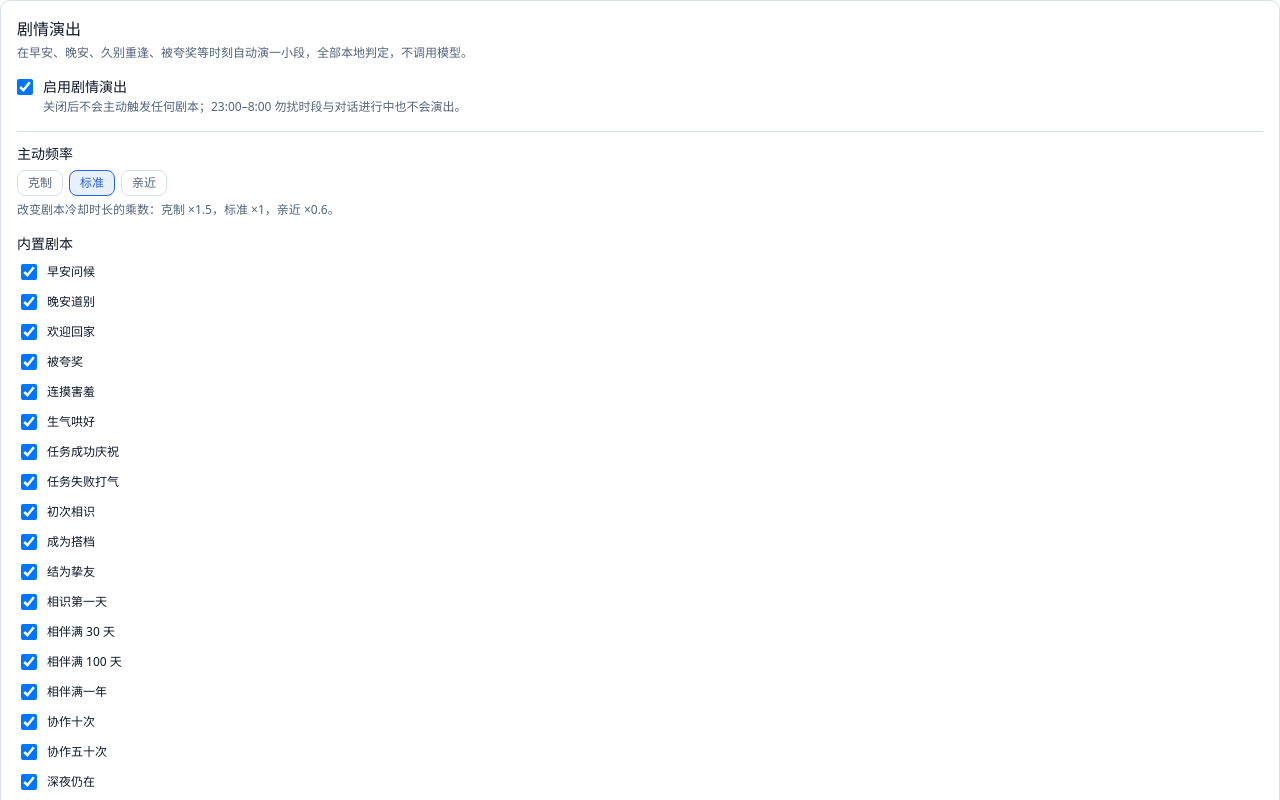
Test: EventPanel（v1.7 剧情演出设置） › 默认启用；关闭总开关后 PUT eventsEnabled=false 且剧本列表隐藏
This screenshot has width=1280, height=800.
expect the text "内置剧本" is shown: met, box [17, 234, 73, 253]
fireEvent 单击：避免 jsdom 下 userEvent 对 label 包裹 checkbox 的双重激活
Click the checkbox with test id "event-enabled-toggle". click: (25,87)
box: [17, 79, 33, 95]
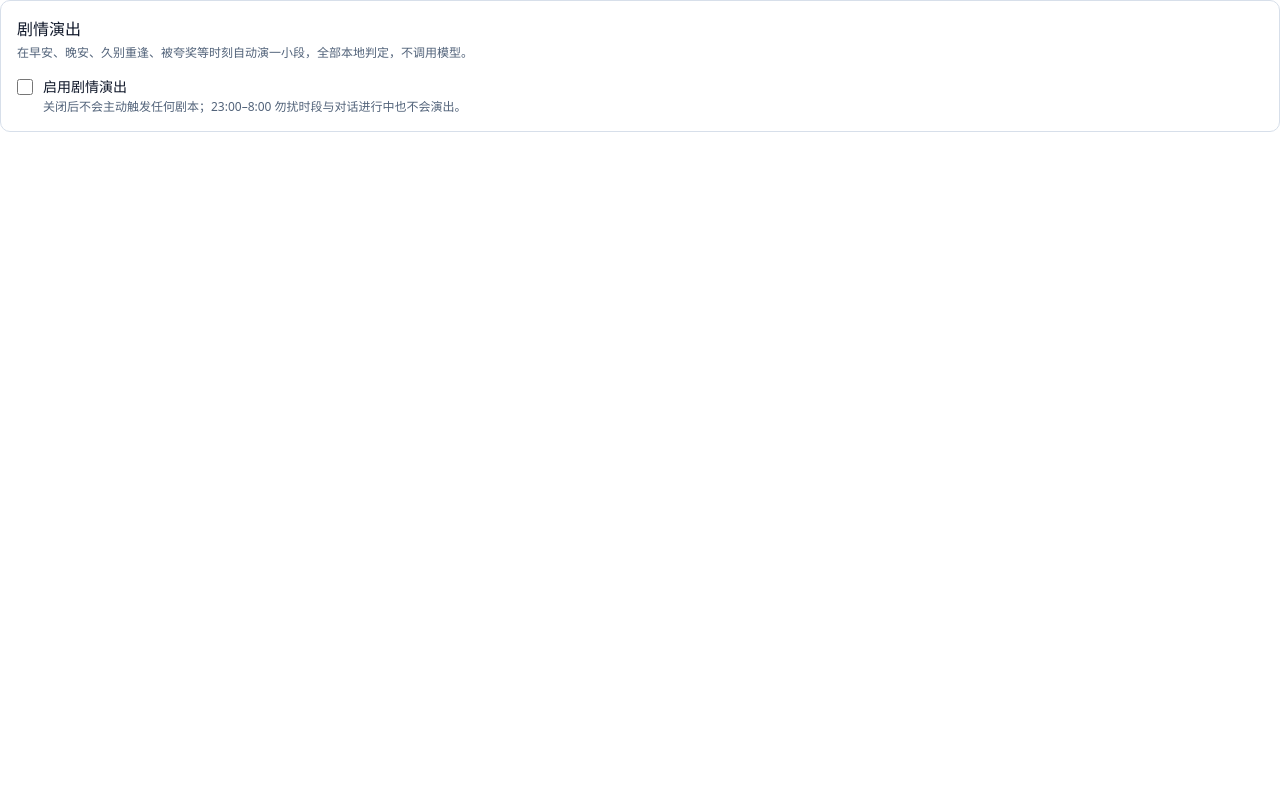
expect the text "内置剧本" is gone: met
